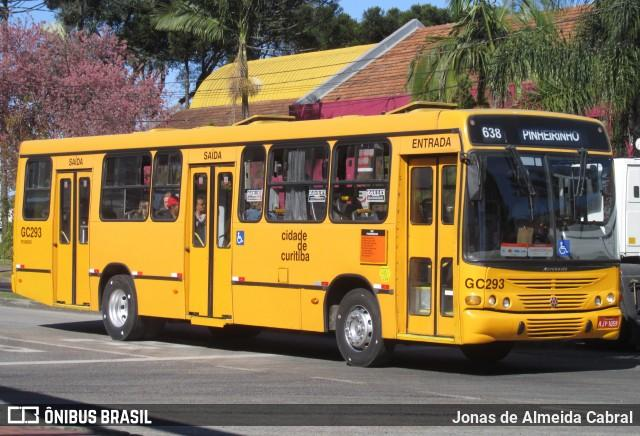PINHEIRINHO: (518, 125, 582, 145)
